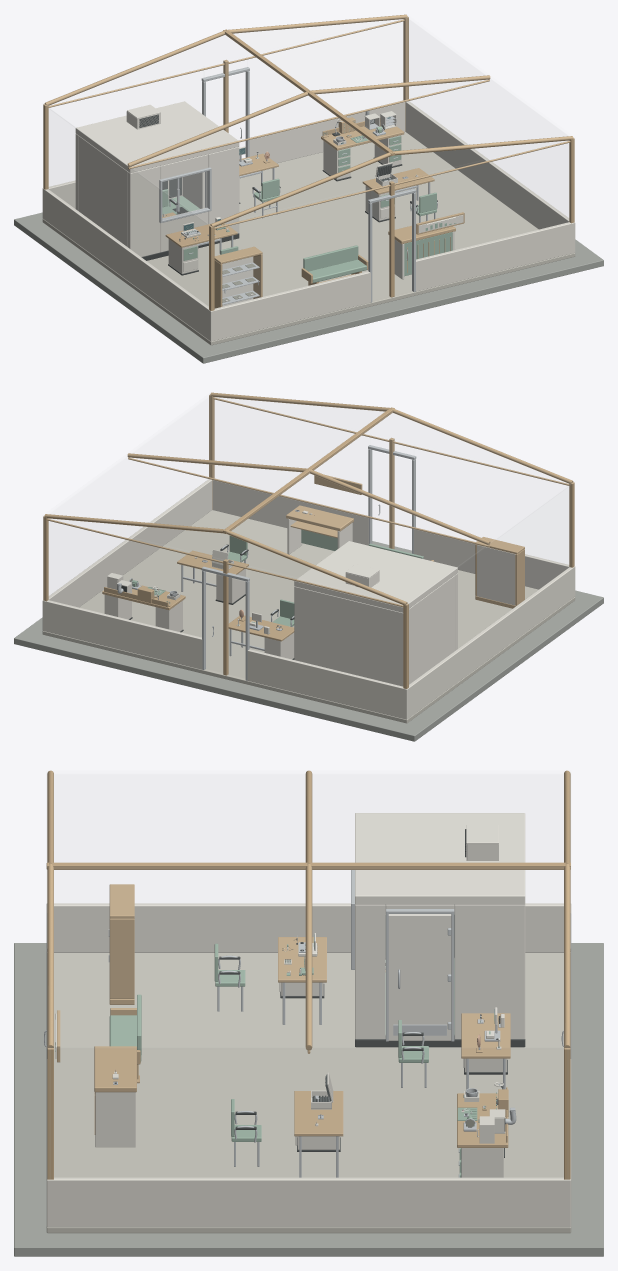
The model's file is hearing-aid-and-audiology-clinic-furnish-66a38e59-starter-scene__31767.glb.
3 renders of one model, top to bottom at view 1: azimuth 30°, elevation 25°; view 2: azimuth 150°, elevation 25°; view 3: azimuth 270°, elevation 25°, orthographic. The views are drawn at different scales.
Parts seen in each view (by area): view 1: 001-roofed-audiology-clinic/3, 001-roofed-audiology-clinic/2, 001-roofed-audiology-clinic/0, 002-acoustic-test-booth/2, 001-roofed-audiology-clinic/1, 000-audiology-floor-base/0, 001-roofed-audiology-clinic/4, 066-upholstered-waiting-bench/0, 051-hearing-device-retail-cabinet/0, 064-appointment-reception-counter/1, 029-fabrication-bench/1, 029-fabrication-bench/0 (+11 smaller); view 2: 001-roofed-audiology-clinic/3, 001-roofed-audiology-clinic/2, 002-acoustic-test-booth/2, 001-roofed-audiology-clinic/0, 001-roofed-audiology-clinic/1, 000-audiology-floor-base/0, 001-roofed-audiology-clinic/4, 051-hearing-device-retail-cabinet/1, 064-appointment-reception-counter/0, 029-fabrication-bench/1, 051-hearing-device-retail-cabinet/0, 020-acoustic-fitting-desk/0 (+7 smaller); view 3: 001-roofed-audiology-clinic/0, 001-roofed-audiology-clinic/3, 001-roofed-audiology-clinic/2, 000-audiology-floor-base/0, 002-acoustic-test-booth/2, 001-roofed-audiology-clinic/1, 003-acoustic-booth-door/0, 051-hearing-device-retail-cabinet/0, 064-appointment-reception-counter/2, 064-appointment-reception-counter/0, 020-acoustic-fitting-desk/0, 003-acoustic-booth-door/2 (+8 smaller).
Boxes of the visible parts, x1=… form: 001-roofed-audiology-clinic/3: x1=47, y1=18, x2=568, y2=224; 001-roofed-audiology-clinic/2: x1=42, y1=100, x2=575, y2=341; 001-roofed-audiology-clinic/0: x1=42, y1=132, x2=575, y2=345; 002-acoustic-test-booth/2: x1=75, y1=101, x2=239, y2=256; 001-roofed-audiology-clinic/1: x1=43, y1=14, x2=574, y2=310; 000-audiology-floor-base/0: x1=14, y1=212, x2=603, y2=363; 001-roofed-audiology-clinic/4: x1=201, y1=67, x2=416, y2=302; 066-upholstered-waiting-bench/0: x1=303, y1=245, x2=366, y2=282; 051-hearing-device-retail-cabinet/0: x1=214, y1=246, x2=262, y2=308; 064-appointment-reception-counter/1: x1=404, y1=232, x2=452, y2=276; 029-fabrication-bench/1: x1=323, y1=135, x2=401, y2=179; 029-fabrication-bench/0: x1=321, y1=117, x2=404, y2=150; 001-roofed-audiology-clinic/3: x1=49, y1=396, x2=570, y2=602; 001-roofed-audiology-clinic/2: x1=42, y1=478, x2=575, y2=719; 002-acoustic-test-booth/2: x1=294, y1=541, x2=457, y2=686; 001-roofed-audiology-clinic/0: x1=42, y1=510, x2=575, y2=723; 001-roofed-audiology-clinic/1: x1=43, y1=392, x2=574, y2=688; 000-audiology-floor-base/0: x1=14, y1=541, x2=603, y2=741; 001-roofed-audiology-clinic/4: x1=201, y1=445, x2=416, y2=680; 051-hearing-device-retail-cabinet/1: x1=477, y1=545, x2=515, y2=605; 064-appointment-reception-counter/0: x1=286, y1=505, x2=353, y2=538; 029-fabrication-bench/1: x1=104, y1=594, x2=182, y2=631; 051-hearing-device-retail-cabinet/0: x1=475, y1=537, x2=524, y2=608; 020-acoustic-fitting-desk/0: x1=228, y1=615, x2=294, y2=641; 001-roofed-audiology-clinic/0: x1=46, y1=953, x2=571, y2=1233; 001-roofed-audiology-clinic/3: x1=50, y1=774, x2=567, y2=1048; 001-roofed-audiology-clinic/2: x1=46, y1=903, x2=571, y2=1227; 000-audiology-floor-base/0: x1=14, y1=943, x2=603, y2=1256; 002-acoustic-test-booth/2: x1=355, y1=813, x2=525, y2=1039; 001-roofed-audiology-clinic/1: x1=46, y1=770, x2=570, y2=1179; 003-acoustic-booth-door/0: x1=388, y1=914, x2=451, y2=1040; 051-hearing-device-retail-cabinet/0: x1=109, y1=884, x2=134, y2=1004; 064-appointment-reception-counter/2: x1=95, y1=1074, x2=135, y2=1147; 064-appointment-reception-counter/0: x1=94, y1=1046, x2=136, y2=1134; 020-acoustic-fitting-desk/0: x1=461, y1=1013, x2=510, y2=1058; 003-acoustic-booth-door/2: x1=386, y1=909, x2=454, y2=1041.
Bounding box in the file's own units: 11 × 4.06 × 9.
